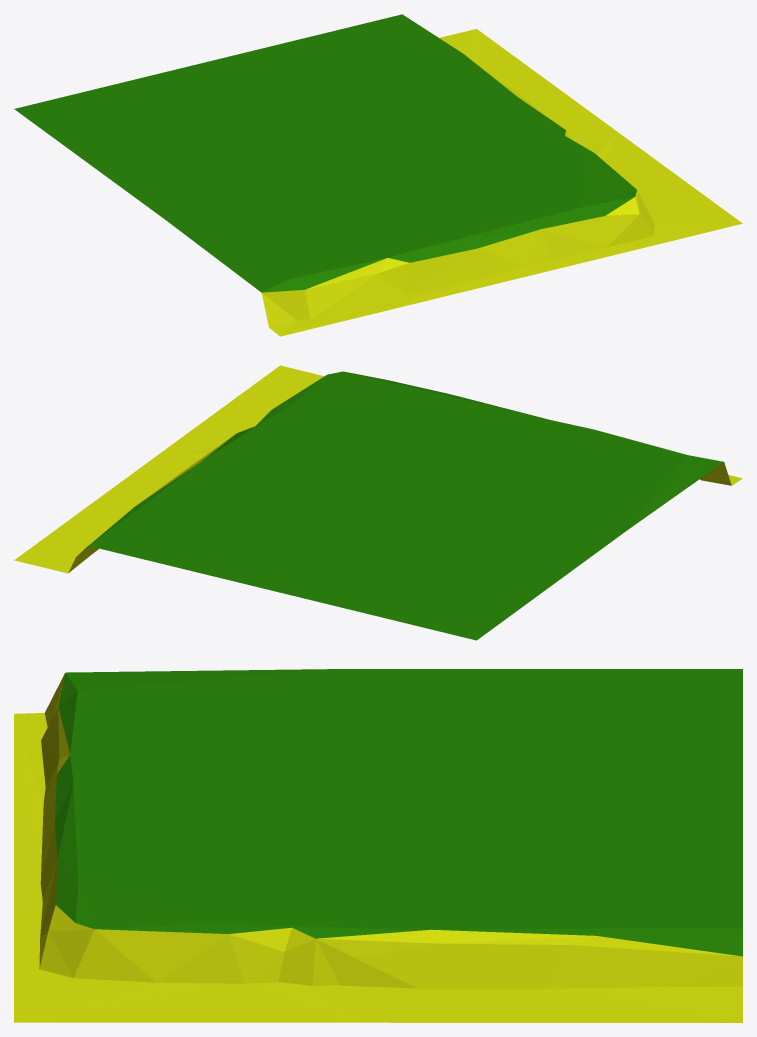
3 views of the same model, one above another, from view 1: azimuth 30°, elevation 25°; view 2: azimuth 150°, elevation 25°; view 3: azimuth 270°, elevation 25° (orthographic). The views are drawn at different scales.
Visible parts, largest first — view 1: TerrainVeryHigh.012; view 2: TerrainVeryHigh.012; view 3: TerrainVeryHigh.012.
Boxes of the visible parts, <box> form: TerrainVeryHigh.012: <box>14,14,742,336</box>; TerrainVeryHigh.012: <box>14,365,742,640</box>; TerrainVeryHigh.012: <box>14,669,742,1022</box>.
Size of the model in its own units: 1253 by 1249 by 84.74.
